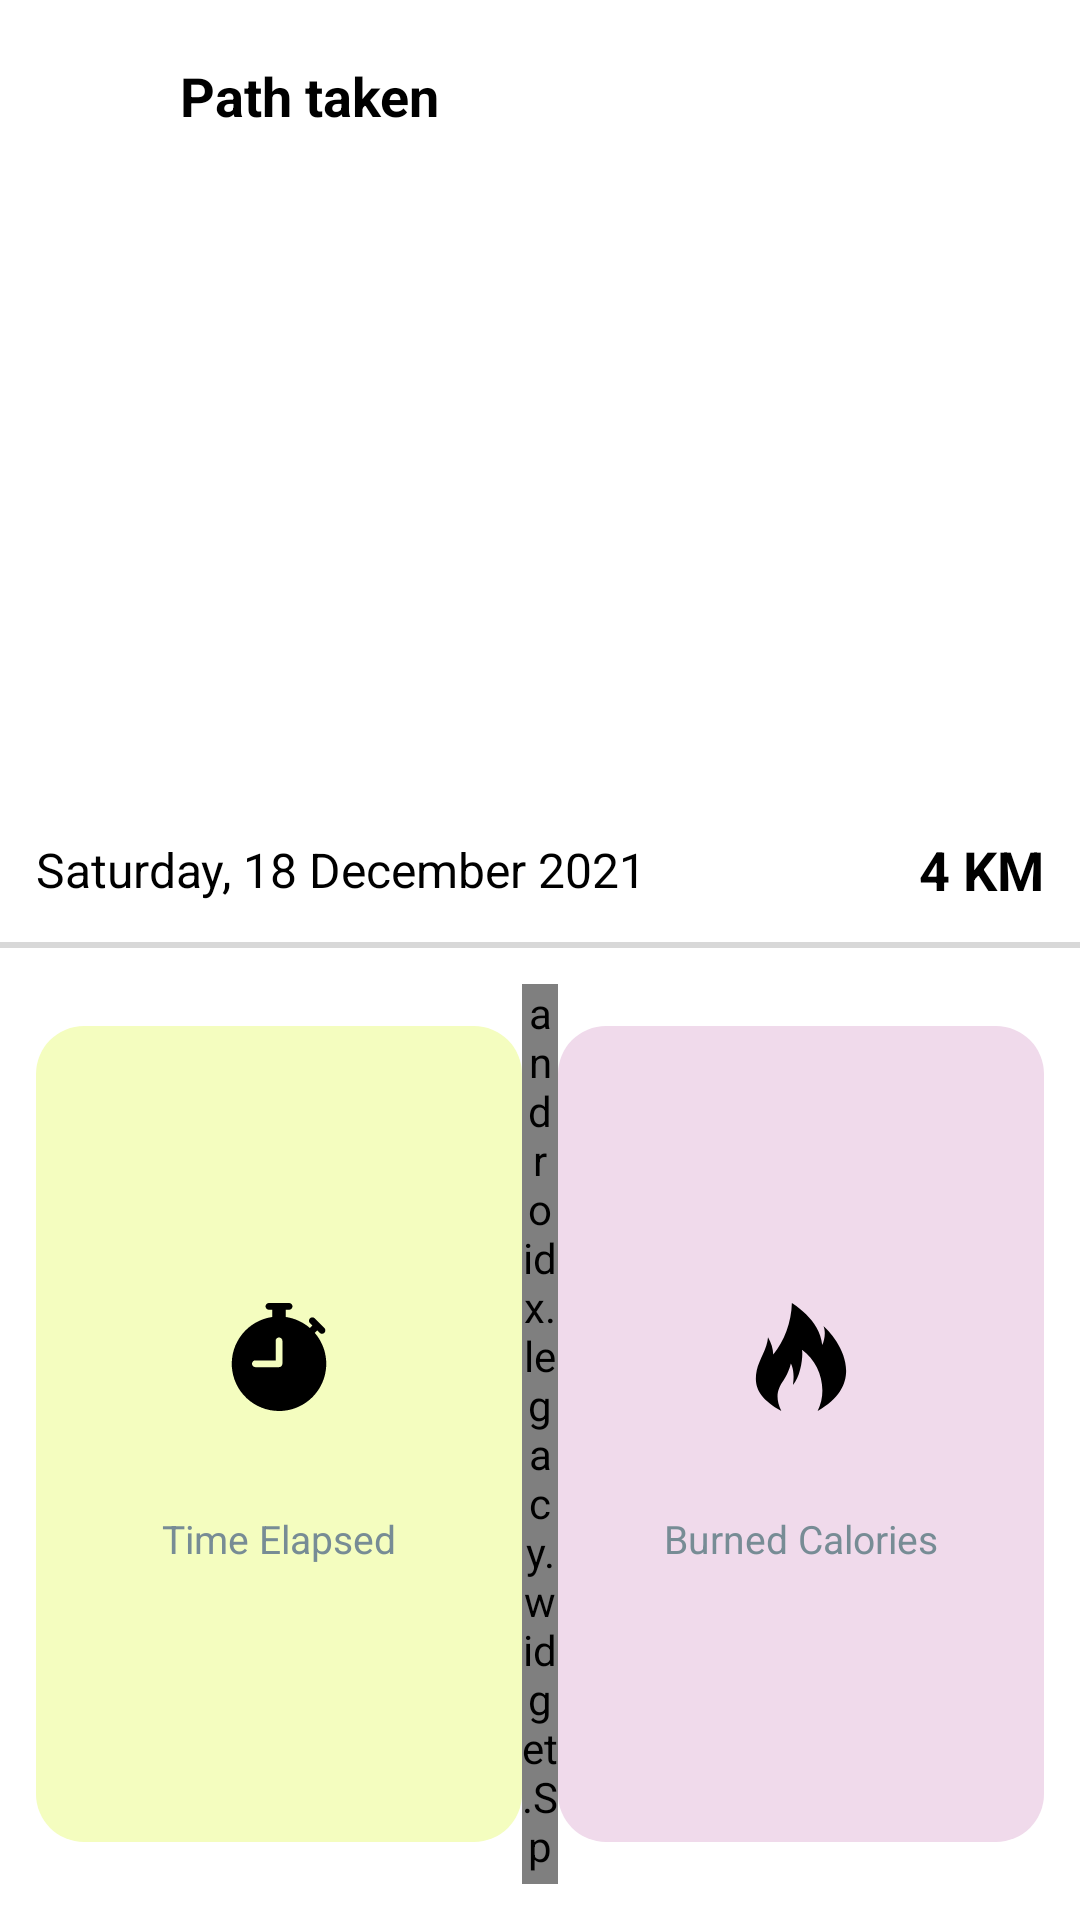

Where to tap for icons on this 1080w x 1920h app screen, as [x,y]:
fire: [801,1357]
stopwatch: [279,1357]
